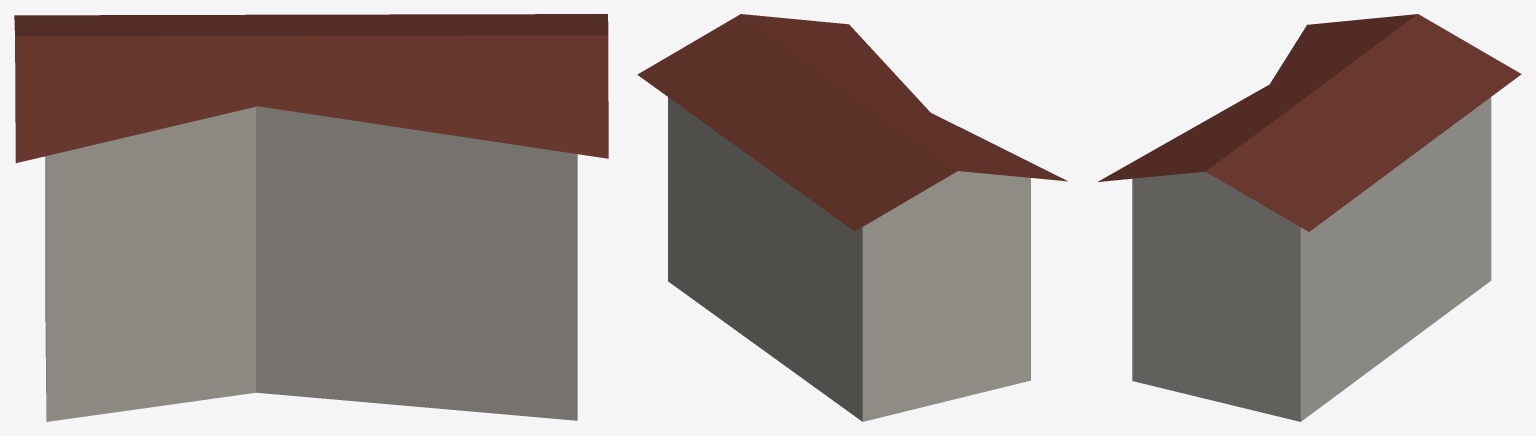
3 views of the same model, side by side, from view 1: azimuth 30°, elevation 25°; view 2: azimuth 150°, elevation 25°; view 3: azimuth 270°, elevation 25° (orthographic). The views are drawn at different scales.
Visible parts, largest first — view 1: buildings; view 2: buildings; view 3: buildings.
Boxes of the visible parts, x1,y1,x2,y2 form: buildings: (14, 14, 608, 421); buildings: (637, 14, 1067, 421); buildings: (1098, 14, 1521, 421).
Size of the model in its own units: 6.66 by 3.52 by 5.7.
